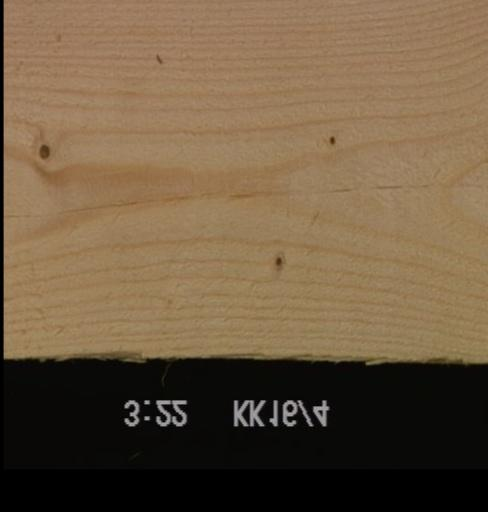small_knot: (35, 141, 49, 163), (271, 253, 282, 268), (324, 133, 335, 147)
wave: (3, 337, 472, 364)
